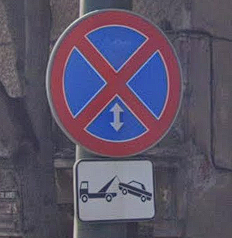oprirea_interzisa: (45, 9, 183, 158)
